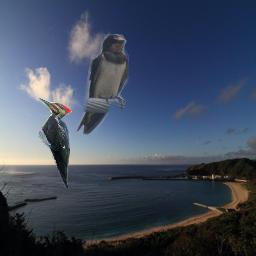Swallow: (76, 34, 129, 135)
Woodpecker: (37, 97, 72, 189)
